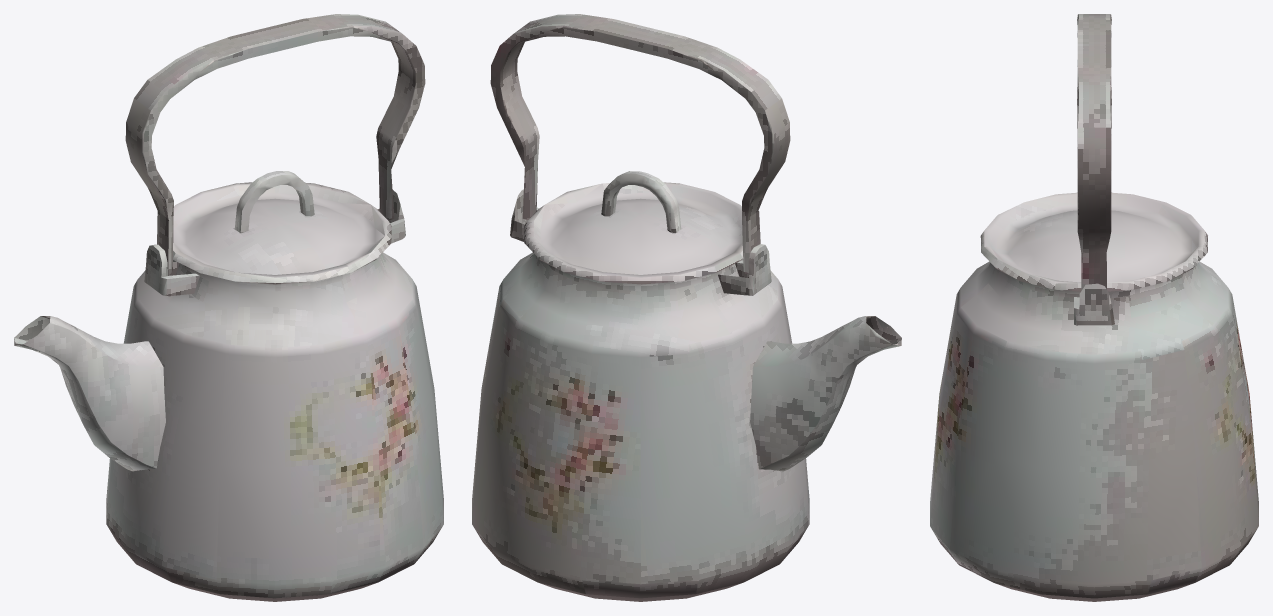
File: g_teapot.glb
3 renders of one model, left to right at view 1: azimuth 30°, elevation 25°; view 2: azimuth 150°, elevation 25°; view 3: azimuth 270°, elevation 25°, orthographic. The views are drawn at different scales.
Parts seen in each view (by area): view 1: mesh; view 2: mesh; view 3: mesh.
Part boxes in pixels (x1,y1,x2,y2): mesh: (14,14,443,601); mesh: (472,14,901,601); mesh: (930,14,1258,601).
Bounding box in the file's own units: 0.1644 × 0.2 × 0.1174.
Materials: 1 (1 with a texture image).
